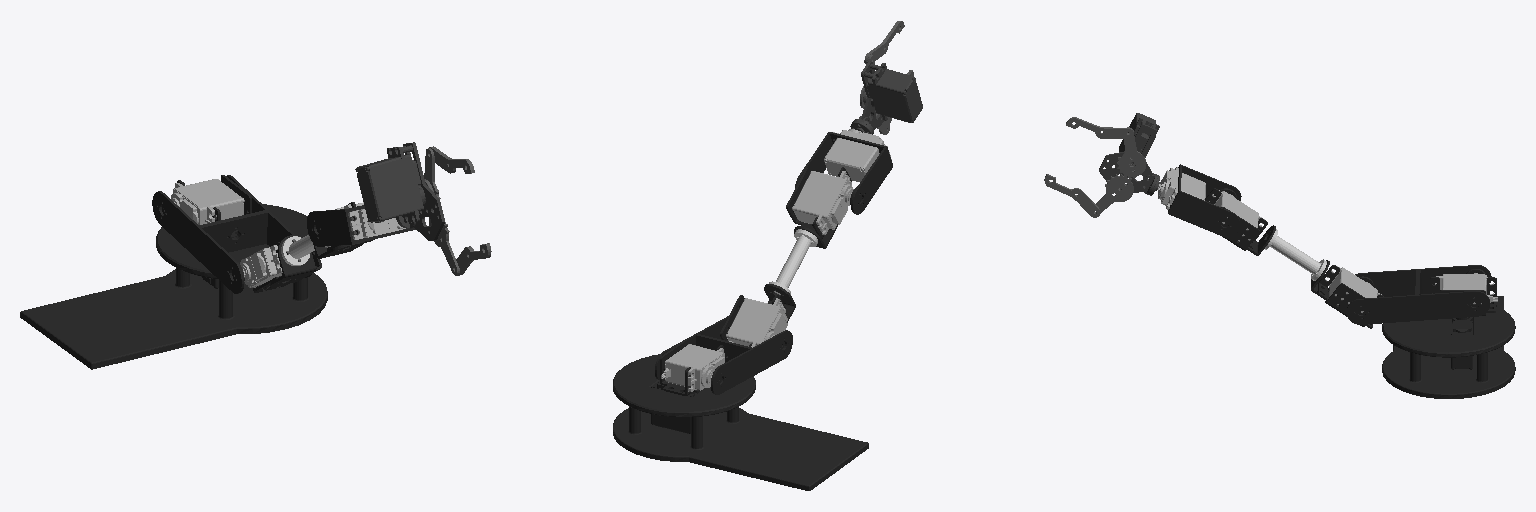
URDF robot description (six_dof_vthree):
<?xml version="1.0" encoding="utf-8" ?>
<!-- This URDF was automatically created by SolidWorks to URDF Exporter! Originally created by [author] ([email redacted]) 
     Commit Version: 1.6.0-1-g15f4949  Build Version: 1.6.7594.29634
     For more information, please see http://wiki.ros.org/sw_urdf_exporter -->
<robot name="six_dof_vthree">
    <link name="base_link">
        <inertial>
            <origin xyz="-0.024694 0.018581 -0.0016056" rpy="0 0 0" />
            <mass value="0.3" />
            <inertia ixx="0.00021667" ixy="-6.915E-05" ixz="-1.4303E-06" iyy="0.00066333" iyz="-1.3232E-06" izz="0.00056953" />
        </inertial>
        <visual>
            <origin xyz="0 0 0" rpy="0 0 0" />
            <geometry>
                <mesh filename="package://tesr_ros_six_servo_robot_pkg/meshes/base_link.STL" />
            </geometry>
            <material name="">
                <color rgba="0.2 0.2 0.2 1" />
            </material>
        </visual>
        <collision>
            <origin xyz="0 0 0" rpy="0 0 0" />
            <geometry>
                <mesh filename="package://tesr_ros_six_servo_robot_pkg/meshes/base_link.STL" />
            </geometry>
        </collision>
    </link>
    <link name="link_1">
        <inertial>
            <origin xyz="-0.00018294 -0.00067148 -0.010104" rpy="0 0 0" />
            <mass value="0.3" />
            <inertia ixx="4.3344E-06" ixy="-6.8318E-07" ixz="3.7263E-07" iyy="3.4552E-06" iyz="-2.0145E-07" izz="6.1023E-06" />
        </inertial>
        <visual>
            <origin xyz="0 0 0" rpy="0 0 0" />
            <geometry>
                <mesh filename="package://tesr_ros_six_servo_robot_pkg/meshes/link_1.STL" />
            </geometry>
            <material name="">
                <color rgba="0.2 0.2 0.2 1" />
            </material>
        </visual>
        <collision>
            <origin xyz="0 0 0" rpy="0 0 0" />
            <geometry>
                <mesh filename="package://tesr_ros_six_servo_robot_pkg/meshes/link_1.STL" />
            </geometry>
        </collision>
    </link>
    <joint name="joint_1" type="revolute">
        <origin xyz="-0.01 0.012 0.05175" rpy="3.1416 0 -0.52" />
        <!--rpy="3.1416 0 1.0695" /-->
        <parent link="base_link" />
        <child link="link_1" />
        <axis xyz="0 0 -1" />
        <limit lower="0" upper="3.14" effort="100" velocity="1.0" />
    </joint>
    <link name="link_2">
        <inertial>
            <origin xyz="-0.00030577 -0.0082896 4.0228E-09" rpy="0 0 0" />
            <mass value="0.3" />
            <inertia ixx="1.6875E-06" ixy="3.9477E-08" ixz="8.0268E-13" iyy="5.2032E-06" iyz="-5.5581E-13" izz="4.903E-06" />
        </inertial>
        <visual>
            <origin xyz="0 0 0" rpy="0 0 0" />
            <geometry>
                <mesh filename="package://tesr_ros_six_servo_robot_pkg/meshes/link_2.STL" />
            </geometry>
            <material name="">
                <color rgba="0.7 0.7 0.7 1" />
            </material>
        </visual>
        <collision>
            <origin xyz="0 0 0" rpy="0 0 0" />
            <geometry>
                <mesh filename="package://tesr_ros_six_servo_robot_pkg/meshes/link_2.STL" />
            </geometry>
        </collision>
    </link>
    <joint name="joint_2" type="fixed">
        <origin xyz="-0.016812 0.0071743 -0.017792" rpy="0 0 1.0713" />
        <parent link="link_1" />
        <child link="link_2" />
        <axis xyz="0 0 0" />
    </joint>
    <link name="link_3">
        <inertial>
            <origin xyz="-0.004182 0.051 -4.3715E-16" rpy="0 0 0" />
            <mass value="0.3" />
            <inertia ixx="2.134E-05" ixy="-3.8211E-21" ixz="-1.5525E-18" iyy="3.0287E-05" iyz="-3.1779E-15" izz="4.6603E-05" />
        </inertial>
        <visual>
            <origin xyz="0 0 0" rpy="0 0 0" />
            <geometry>
                <mesh filename="package://tesr_ros_six_servo_robot_pkg/meshes/link_3.STL" />
            </geometry>
            <material name="">
                <color rgba="0.2 0.2 0.2 1" />
            </material>
        </visual>
        <collision>
            <origin xyz="0 0 0" rpy="0 0 0" />
            <geometry>
                <mesh filename="package://tesr_ros_six_servo_robot_pkg/meshes/link_3.STL" />
            </geometry>
        </collision>
    </link>
    <joint name="joint_3" type="revolute">
        <origin xyz="-0.01 0 0" rpy="3.05432 0 1.5708" />
        <parent link="link_2" />
        <child link="link_3" />
        <axis xyz="1 0 0" />
        <limit lower="0" upper="2.3562" effort="100" velocity="1.0" />
    </joint>
    <link name="link_4">
        <inertial>
            <origin xyz="0.0097832 -0.0082336 4.3055E-09" rpy="0 0 0" />
            <mass value="0.3" />
            <inertia ixx="1.6871E-06" ixy="3.9477E-08" ixz="9.0364E-13" iyy="5.2026E-06" iyz="-6.1004E-13" izz="4.9025E-06" />
        </inertial>
        <visual>
            <origin xyz="0 0 0" rpy="0 0 0" />
            <geometry>
                <mesh filename="package://tesr_ros_six_servo_robot_pkg/meshes/link_4.STL" />
            </geometry>
            <material name="">
                <color rgba="0.7 0.7 0.7 1" />
            </material>
        </visual>
        <collision>
            <origin xyz="0 0 0" rpy="0 0 0" />
            <geometry>
                <mesh filename="package://tesr_ros_six_servo_robot_pkg/meshes/link_4.STL" />
            </geometry>
        </collision>
    </link>
    <joint name="joint_4" type="revolute">
        <origin xyz="0 0.102 0" rpy="3.1416 -0.6981 1.5708" />
        <parent link="link_3" />
        <child link="link_4" />
        <axis xyz="0 -1 0" />
        <limit lower="0" upper="3.14" effort="100" velocity="1.0"/>
    </joint>
    <link name="link_5">
        <inertial>
            <origin xyz="0.017447 0.0057451 0.012304" rpy="0 0 0" />
            <mass value="0.3" />
            <inertia ixx="5.9142E-06" ixy="4.236E-07" ixz="-5.2827E-11" iyy="7.2085E-06" iyz="3.3227E-07" izz="3.809E-06" />
        </inertial>
        <visual>
            <origin xyz="0 0 0" rpy="0 0 0" />
            <geometry>
                <mesh filename="package://tesr_ros_six_servo_robot_pkg/meshes/link_5.STL" />
            </geometry>
            <material name="">
                <color rgba="0.2 0.2 0.2 1" />
            </material>
        </visual>
        <collision>
            <origin xyz="0 0 0" rpy="0 0 0" />
            <geometry>
                <mesh filename="package://tesr_ros_six_servo_robot_pkg/meshes/link_5.STL" />
            </geometry>
        </collision>
    </link>
    <joint name="joint_5" type="fixed">
        <origin xyz="0.031 -0.032 0.013292" rpy="-1.5708 0 1.5708" />
        <parent link="link_4" />
        <child link="link_5" />
        <axis xyz="0 0 0" />
    </joint>
    <link name="link_6">
        <inertial>
            <origin xyz="-2.7756E-17 -0.030497 -6.3079E-16" rpy="0 0 0" />
            <mass value="0.3" />
            <inertia ixx="2.8919E-06" ixy="-1.6756E-21" ixz="-1.3442E-24" iyy="2.2554E-07" iyz="1.7249E-22" izz="2.8919E-06" />
        </inertial>
        <visual>
            <origin xyz="0 0 0" rpy="0 0 0" />
            <geometry>
                <mesh filename="package://tesr_ros_six_servo_robot_pkg/meshes/link_6.STL" />
            </geometry>
            <material name="">
                <color rgba="0.8 0.8 0.8 1" />
            </material>
        </visual>
        <collision>
            <origin xyz="0 0 0" rpy="0 0 0" />
            <geometry>
                <mesh filename="package://tesr_ros_six_servo_robot_pkg/meshes/link_6.STL" />
            </geometry>
        </collision>
    </link>
    <joint name="joint_6" type="fixed">
        <origin xyz="0.025217 0.0139 -0.013799" rpy="1.5708 0 -1.5708" />
        <parent link="link_5" />
        <child link="link_6" />
        <axis xyz="0 0 0" />
    </joint>
    <link name="link_7">
        <inertial>
            <origin xyz="0.028032 0.0047299 -0.0077781" rpy="0 0 0" />
            <mass value="0.3" />
            <inertia ixx="3.809E-06" ixy="5.2827E-11" ixz="-3.2899E-07" iyy="5.9142E-06" iyz="-4.236E-07" izz="7.2085E-06" />
        </inertial>
        <visual>
            <origin xyz="0 0 0" rpy="0 0 0" />
            <geometry>
                <mesh filename="package://tesr_ros_six_servo_robot_pkg/meshes/link_7.STL" />
            </geometry>
            <material name="">
                <color rgba="0.2 0.2 0.2 1" />
            </material>
        </visual>
        <collision>
            <origin xyz="0 0 0" rpy="0 0 0" />
            <geometry>
                <mesh filename="package://tesr_ros_six_servo_robot_pkg/meshes/link_7.STL" />
            </geometry>
        </collision>
    </link>
    <joint name="joint_7" type="fixed">
        <origin xyz="0.016 -0.059015 0.0125" rpy="-1.5708 0 -1.5708" />
        <parent link="link_6" />
        <child link="link_7" />
        <axis xyz="0 0 0" />
    </joint>
    <link name="link_8">
        <inertial>
            <origin xyz="-0.000216828113527717 -0.00823361941068958 4.30062174761048E-09" rpy="0 0 0" />
            <mass value="0.3" />
            <inertia ixx="1.68714358570622E-06" ixy="3.94774683741194E-08" ixz="9.02243960309693E-13" iyy="5.2025774371148E-06" iyz="-6.09807048470312E-13" izz="4.9025002529183E-06" />
        </inertial>
        <visual>
            <origin xyz="0 0 0" rpy="0 0 0" />
            <geometry>
                <mesh filename="package://tesr_ros_six_servo_robot_pkg/meshes/link_8.STL" />
            </geometry>
            <material name="">
                <color rgba="0.7 0.7 0.7 1" />
            </material>
        </visual>
        <collision>
            <origin xyz="0 0 0" rpy="0 0 0" />
            <geometry>
                <mesh filename="package://tesr_ros_six_servo_robot_pkg/meshes/link_8.STL" />
            </geometry>
        </collision>
    </link>
    <joint name="joint_8" type="fixed">
        <origin xyz="0.036754 0.019283 -0.015292" rpy="3.1416 0 -3.1416" />
        <parent link="link_7" />
        <child link="link_8" />
        <axis xyz="0 0 0" />
    </joint>
    <link name="link_9">
        <inertial>
            <origin xyz="-0.00351339256501729 -0.0220824494550131 0.00311970106198312" rpy="0 0 0" />
            <mass value="0.3" />
            <inertia ixx="2.0338815288266E-05" ixy="-9.52656162447708E-07" ixz="-1.11638519066613E-10" iyy="1.44907793466079E-05" iyz="-6.98722629147494E-10" izz="8.3722165314364E-06" />
        </inertial>
        <visual>
            <origin xyz="0 0 0" rpy="0 0 0" />
            <geometry>
                <mesh filename="package://tesr_ros_six_servo_robot_pkg/meshes/link_9.STL" />
            </geometry>
            <material name="">
                <color rgba="0.2 0.2 0.2 1" />
            </material>
        </visual>
        <collision>
            <origin xyz="0 0 0" rpy="0 0 0" />
            <geometry>
                <mesh filename="package://tesr_ros_six_servo_robot_pkg/meshes/link_9.STL" />
            </geometry>
        </collision>
    </link>
    <joint name="joint_9" type="revolute">
        <origin xyz="-0.01 0 0" rpy="1.5708 -1.13446 0" />
        <parent link="link_8" />
        <child link="link_9" />
        <axis xyz="0 0 -1" />
        <limit lower="0.7854" upper="3.927" effort="100" velocity="1.0"/>
    </joint>
    <link name="link_10">
        <inertial>
            <origin xyz="-0.0002168280519851 -0.00823361951667059 4.41184394572858E-09" rpy="0 0 0" />
            <mass value="0.3" />
            <inertia ixx="1.687143637864E-06" ixy="3.94774699970568E-08" ixz="9.23313678770479E-13" iyy="5.2025773326752E-06" iyz="-6.08644339845992E-13" izz="4.9025001142284E-06" />
        </inertial>
        <visual>
            <origin xyz="0 0 0" rpy="0 0 0" />
            <geometry>
                <mesh filename="package://tesr_ros_six_servo_robot_pkg/meshes/link_10.STL" />
            </geometry>
            <material name="">
                <color rgba="0.7 0.7 0.7 1" />
            </material>
        </visual>
        <collision>
            <origin xyz="0 0 0" rpy="0 0 0" />
            <geometry>
                <mesh filename="package://tesr_ros_six_servo_robot_pkg/meshes/link_10.STL" />
            </geometry>
        </collision>
    </link>
    <joint name="joint_10" type="fixed">
        <origin xyz="-0.0080654 -0.050358 0.0055" rpy="3.31612 1.5708 0" />
        <parent link="link_9" />
        <child link="link_10" />
        <axis xyz="0 0 0" />
    </joint>
    <link name="link_11">
        <inertial>
            <origin xyz="-0.0179796830430524 0.0176119337980501 -0.0276487816012455" rpy="0 0 0" />
            <mass value="0.3" />
            <inertia ixx="2.3493041489984E-06" ixy="2.79264066382846E-07" ixz="8.77932216619499E-09" iyy="7.25682088953817E-06" iyz="-6.63070840397994E-10" izz="6.54663315578873E-06" />
        </inertial>
        <visual>
            <origin xyz="0 0 0" rpy="0 0 0" />
            <geometry>
                <mesh filename="package://tesr_ros_six_servo_robot_pkg/meshes/link_11.STL" />
            </geometry>
            <material name="">
                <color rgba="0.3 0.3 0.3 1" />
            </material>
        </visual>
        <collision>
            <origin xyz="0 0 0" rpy="0 0 0" />
            <geometry>
                <mesh filename="package://tesr_ros_six_servo_robot_pkg/meshes/link_11.STL" />
            </geometry>
        </collision>
    </link>
    <joint name="joint_11" type="revolute">
        <origin xyz="-0.01 0.015896 0" rpy="-1.5708 1.5708 -3.1416" />
        <parent link="link_10" />
        <child link="link_11" />
        <axis xyz="0 0 -1" />
        <limit lower="0" upper="3.14" effort="100" velocity="1.0" />
    </joint>
    <link name="link_12_1">
        <inertial>
            <origin xyz="0.000111818837647881 -0.00276320253830744 0.00446257533240041" rpy="0 0 0" />
            <mass value="0.3" />
            <inertia ixx="2.65564690155204E-07" ixy="-4.91339632043252E-09" ixz="9.40271711925512E-23" iyy="9.83115433738288E-08" iyz="-1.92532749920253E-22" izz="3.58855211908907E-07" />
        </inertial>
        <visual>
            <origin xyz="0 0 0" rpy="0 0 0" />
            <geometry>
                <mesh filename="package://tesr_ros_six_servo_robot_pkg/meshes/link_12_1.STL" />
            </geometry>
            <material name="">
                <color rgba="0.4 0.4 0.4 1" />
            </material>
        </visual>
        <collision>
            <origin xyz="0 0 0" rpy="0 0 0" />
            <geometry>
                <mesh filename="package://tesr_ros_six_servo_robot_pkg/meshes/link_12_1.STL" />
            </geometry>
        </collision>
    </link>
    <joint name="joitn_12_1" type="revolute">
        <origin xyz="-0.013061 0.00053714 -0.030854" rpy="1.5708 1.0128 -0.041103" />
        <parent link="link_11" />
        <child link="link_12_1" />
        <axis xyz="0 0 1" />
        <limit lower="-3.14" upper="3.14" effort="0" velocity="0" />
    </joint>
    <link name="link_13_1">
        <inertial>
            <origin xyz="-0.00629539510608565 0.0227381038998286 0.00841717476312126" rpy="0 0 0" />
            <mass value="0.3" />
            <inertia ixx="4.34064262982202E-07" ixy="7.40371580775276E-08" ixz="2.016252743098E-24" iyy="2.90889864815549E-08" iyz="-8.94986804562501E-23" izz="4.60927394558563E-07" />
        </inertial>
        <visual>
            <origin xyz="0 0 0" rpy="0 0 0" />
            <geometry>
                <mesh filename="package://tesr_ros_six_servo_robot_pkg/meshes/link_13_1.STL" />
            </geometry>
            <material name="">
                <color rgba="0.4 0.4 0.4 1" />
            </material>
        </visual>
        <collision>
            <origin xyz="0 0 0" rpy="0 0 0" />
            <geometry>
                <mesh filename="package://tesr_ros_six_servo_robot_pkg/meshes/link_13_1.STL" />
            </geometry>
        </collision>
    </link>
    <joint name="joint_13_1" type="revolute">
        <origin xyz="-0.00019564 -0.031049 3.2825E-05" rpy="0 0 -2.099" />
        <parent link="link_12_1" />
        <child link="link_13_1" />
        <axis xyz="0 0 1" />
        <limit lower="-3.14" upper="3.14" effort="0" velocity="0" />
    </joint>
    <link name="link_12_2">
        <inertial>
            <origin xyz="0.00026689410687139 -0.00650128014864475 -0.00811666203769354" rpy="0 0 0" />
            <mass value="0.3" />
            <inertia ixx="2.1583788124175E-07" ixy="-4.87149989419953E-09" ixz="-4.13913423703292E-23" iyy="4.7207621717766E-08" iyz="-1.40052017462884E-22" izz="2.62001176329039E-07" />
        </inertial>
        <visual>
            <origin xyz="0 0 0" rpy="0 0 0" />
            <geometry>
                <mesh filename="package://tesr_ros_six_servo_robot_pkg/meshes/link_12_2.STL" />
            </geometry>
            <material name="">
                <color rgba="0.4 0.4 0.4 1" />
            </material>
        </visual>
        <collision>
            <origin xyz="0 0 0" rpy="0 0 0" />
            <geometry>
                <mesh filename="package://tesr_ros_six_servo_robot_pkg/meshes/link_12_2.STL" />
            </geometry>
        </collision>
    </link>
    <joint name="joint_12_2" type="revolute">
        <origin xyz="0.01407 0.0014175 -0.030854" rpy="1.5708 1.1996 3.1005" />
        <parent link="link_11" />
        <child link="link_12_2" />
        <axis xyz="0 0 1" />
        <limit lower="-3.14" upper="3.14" effort="0" velocity="0" />
    </joint>
    <link name="link_13_2">
        <inertial>
            <origin xyz="-0.0062954 0.022738 -0.0084837" rpy="0 0 0" />
            <mass value="0.3" />
            <inertia ixx="4.3406E-07" ixy="7.4037E-08" ixz="1.277E-22" iyy="2.9089E-08" iyz="-6.4044E-22" izz="4.6093E-07" />
        </inertial>
        <visual>
            <origin xyz="0 0 0" rpy="0 0 0" />
            <geometry>
                <mesh filename="package://tesr_ros_six_servo_robot_pkg/meshes/link_13_2.STL" />
            </geometry>
            <material name="">
                <color rgba="0.4 0.4 0.4 1" />
            </material>
        </visual>
        <collision>
            <origin xyz="0 0 0" rpy="0 0 0" />
            <geometry>
                <mesh filename="package://tesr_ros_six_servo_robot_pkg/meshes/link_13_2.STL" />
            </geometry>
        </collision>
    </link>
    <joint name="joint_13_2" type="revolute">
        <origin xyz="-0.00019564 -0.031049 -0.0022108" rpy="0 0 -1.939" />
        <parent link="link_12_2" />
        <child link="link_13_2" />
        <axis xyz="0 0 1" />
        <limit lower="-3.14" upper="3.14" effort="0" velocity="0" />
    </joint>
    <transmission name="trans_joint_1">
        <type>transmission_interface/SimpleTransmission</type>
        <joint name="joint_1">
            <hardwareInterface>hardware_interface/EffortJointInterface</hardwareInterface>
        </joint>
        <actuator name="joint_1_motor">
            <hardwareInterface>hardware_interface/EffortJointInterface</hardwareInterface>
            <mechanicalReduction>1</mechanicalReduction>
        </actuator>
    </transmission>
    <transmission name="trans_joint_3">
        <type>transmission_interface/SimpleTransmission</type>
        <joint name="joint_3">
            <hardwareInterface>hardware_interface/EffortJointInterface</hardwareInterface>
        </joint>
        <actuator name="joint_3_motor">
            <hardwareInterface>hardware_interface/EffortJointInterface</hardwareInterface>
            <mechanicalReduction>1</mechanicalReduction>
        </actuator>
    </transmission>
    <transmission name="trans_joint_4">
        <type>transmission_interface/SimpleTransmission</type>
        <joint name="joint_4">
            <hardwareInterface>hardware_interface/EffortJointInterface</hardwareInterface>
        </joint>
        <actuator name="joint_4_motor">
            <hardwareInterface>hardware_interface/EffortJointInterface</hardwareInterface>
            <mechanicalReduction>1</mechanicalReduction>
        </actuator>
    </transmission>
    <transmission name="trans_joint_9">
        <type>transmission_interface/SimpleTransmission</type>
        <joint name="joint_9">
            <hardwareInterface>hardware_interface/EffortJointInterface</hardwareInterface>
        </joint>
        <actuator name="joint_9_motor">
            <hardwareInterface>hardware_interface/EffortJointInterface</hardwareInterface>
            <mechanicalReduction>1</mechanicalReduction>
        </actuator>
    </transmission>
    <transmission name="trans_joint_11">
        <type>transmission_interface/SimpleTransmission</type>
        <joint name="joint_11">
            <hardwareInterface>hardware_interface/EffortJointInterface</hardwareInterface>
        </joint>
        <actuator name="joint_11_motor">
            <hardwareInterface>hardware_interface/EffortJointInterface</hardwareInterface>
            <mechanicalReduction>1</mechanicalReduction>
        </actuator>
    </transmission>
    <transmission name="trans_joitn_12_1">
        <type>transmission_interface/SimpleTransmission</type>
        <joint name="joitn_12_1">
            <hardwareInterface>hardware_interface/EffortJointInterface</hardwareInterface>
        </joint>
        <actuator name="joitn_12_1_motor">
            <hardwareInterface>hardware_interface/EffortJointInterface</hardwareInterface>
            <mechanicalReduction>1</mechanicalReduction>
        </actuator>
    </transmission>
    <transmission name="trans_joint_13_1">
        <type>transmission_interface/SimpleTransmission</type>
        <joint name="joint_13_1">
            <hardwareInterface>hardware_interface/EffortJointInterface</hardwareInterface>
        </joint>
        <actuator name="joint_13_1_motor">
            <hardwareInterface>hardware_interface/EffortJointInterface</hardwareInterface>
            <mechanicalReduction>1</mechanicalReduction>
        </actuator>
    </transmission>
    <transmission name="trans_joint_12_2">
        <type>transmission_interface/SimpleTransmission</type>
        <joint name="joint_12_2">
            <hardwareInterface>hardware_interface/EffortJointInterface</hardwareInterface>
        </joint>
        <actuator name="joint_12_2_motor">
            <hardwareInterface>hardware_interface/EffortJointInterface</hardwareInterface>
            <mechanicalReduction>1</mechanicalReduction>
        </actuator>
    </transmission>
    <transmission name="trans_joint_13_2">
        <type>transmission_interface/SimpleTransmission</type>
        <joint name="joint_13_2">
            <hardwareInterface>hardware_interface/EffortJointInterface</hardwareInterface>
        </joint>
        <actuator name="joint_13_2_motor">
            <hardwareInterface>hardware_interface/EffortJointInterface</hardwareInterface>
            <mechanicalReduction>1</mechanicalReduction>
        </actuator>
    </transmission>
    <gazebo>
        <plugin name="gazebo_ros_control">
            <robotNamespace>/</robotNamespace>
        </plugin>
    </gazebo>
</robot>

--- Facts derived from the render (not from the file) ---
Views: 3 orthographic renders of the robot side by side, from view 1: azimuth 30°, elevation 25°; view 2: azimuth 150°, elevation 25°; view 3: azimuth 270°, elevation 25°.
Model six_dof_vthree with 16 links and 15 joints (9 revolute, 6 fixed), rooted at base_link, posed all joints at 0 but 1 set to mid-range because 0 is outside their limits (joint_9 = 2.36).
Links seen in each view (by area): view 1: base_link, link_3, link_11, link_2, link_9, link_4, link_5, link_10, link_6, link_13_1, link_13_2; view 2: base_link, link_3, link_11, link_8, link_4, link_9, link_2, link_10, link_6, link_7, link_5, link_1; view 3: base_link, link_3, link_9, link_11, link_5, link_7, link_10, link_6, link_2, link_12_2, link_12_1, link_4 (+3 smaller).
Link boxes in pixels (x1,y1,x2,y2): base_link: [20, 204, 327, 369]; link_3: [152, 175, 311, 293]; link_11: [355, 142, 444, 240]; link_2: [171, 179, 244, 224]; link_9: [307, 205, 415, 246]; link_4: [240, 245, 286, 287]; link_5: [253, 235, 321, 292]; link_10: [348, 209, 405, 239]; link_6: [281, 235, 314, 265]; link_13_1: [429, 146, 474, 173]; link_13_2: [456, 243, 491, 275]; base_link: [613, 354, 868, 490]; link_3: [655, 316, 792, 394]; link_11: [850, 61, 922, 134]; link_8: [792, 171, 853, 234]; link_4: [726, 298, 787, 347]; link_9: [795, 132, 892, 214]; link_2: [661, 344, 724, 391]; link_10: [824, 129, 891, 181]; link_6: [769, 229, 817, 294]; link_7: [786, 167, 851, 248]; link_5: [720, 284, 795, 346]; link_1: [660, 340, 723, 395]; base_link: [1382, 296, 1515, 398]; link_3: [1347, 265, 1491, 324]; link_9: [1168, 164, 1241, 236]; link_11: [1099, 113, 1159, 195]; link_5: [1311, 260, 1383, 328]; link_7: [1205, 188, 1275, 255]; link_10: [1157, 167, 1205, 209]; link_6: [1265, 229, 1326, 280]; link_2: [1435, 273, 1497, 303]; link_12_2: [1094, 174, 1133, 212]; link_12_1: [1117, 127, 1146, 178]; link_4: [1325, 266, 1381, 312].
Size in the robot's own frame: 0.21 by 0.4239 by 0.2457 metres.
16 mesh visuals loaded from 16 distinct referenced files (16 binary STL).